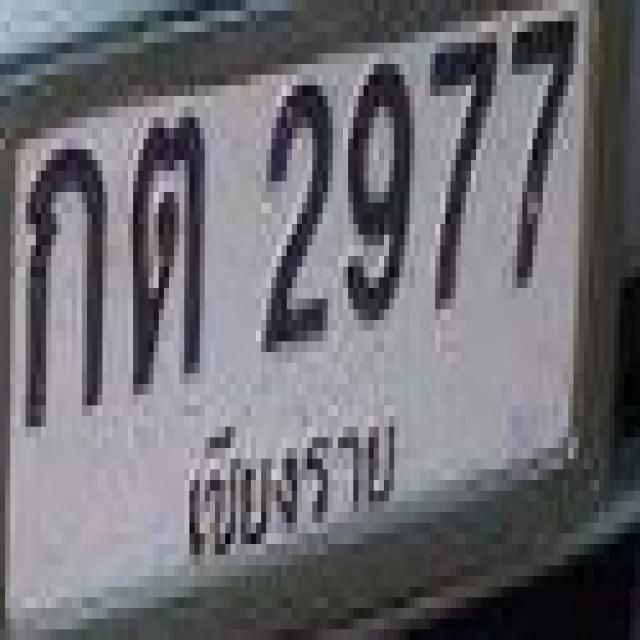license_plate: (0, 1, 621, 640)
